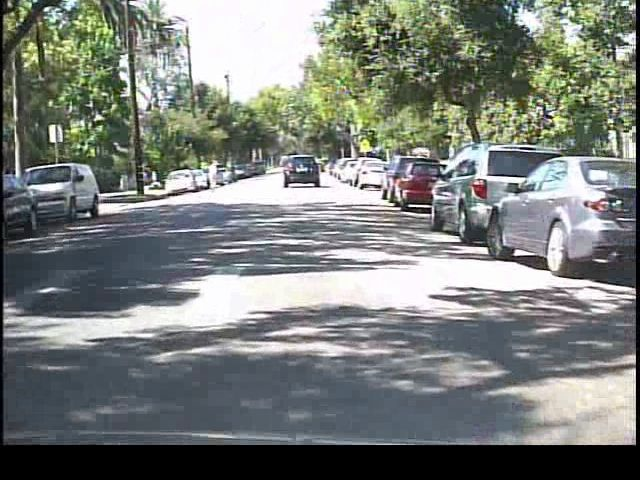person: (204, 157, 224, 196)
